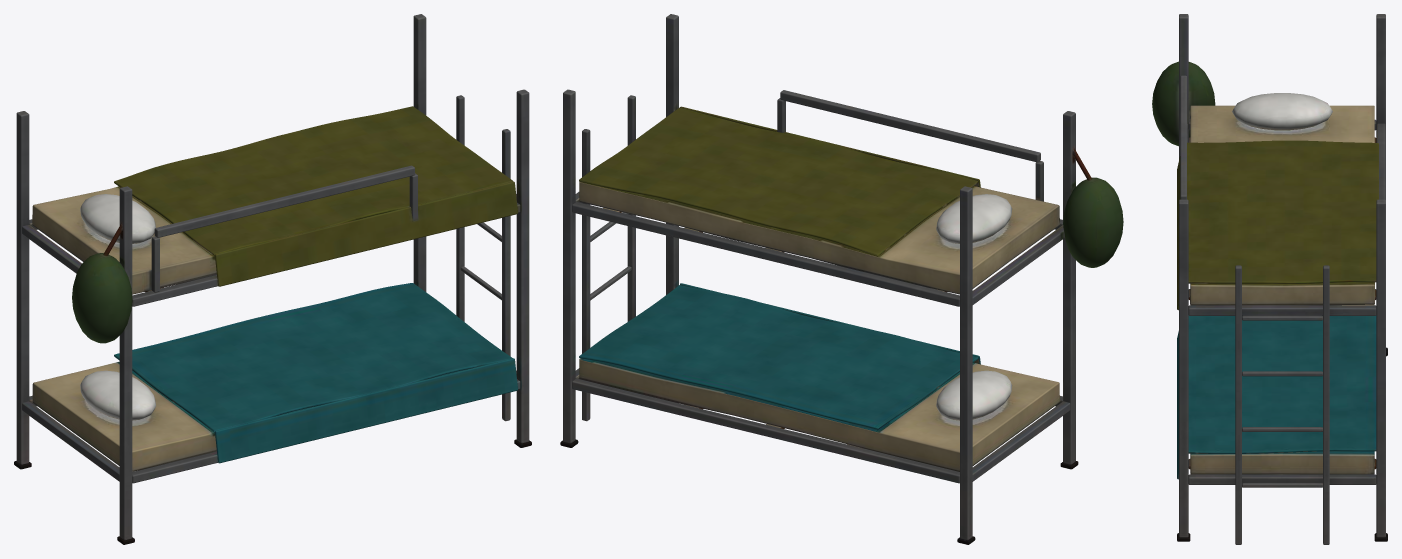
The model's file is bunk_bed.glb.
3 views of the same model, side by side, from view 1: azimuth 30°, elevation 25°; view 2: azimuth 150°, elevation 25°; view 3: azimuth 270°, elevation 25° (orthographic). The views are drawn at different scales.
Parts seen in each view (by area): view 1: bunk_bed; view 2: bunk_bed; view 3: bunk_bed.
Part boxes in pixels (x1=…): bunk_bed: x1=14, y1=14, x2=531, y2=544; bunk_bed: x1=560, y1=14, x2=1123, y2=544; bunk_bed: x1=1152, y1=14, x2=1387, y2=544.
Size of the model in its own units: 2.32 by 1.7 by 1.07.
Materials: 1 (1 with a texture image).
